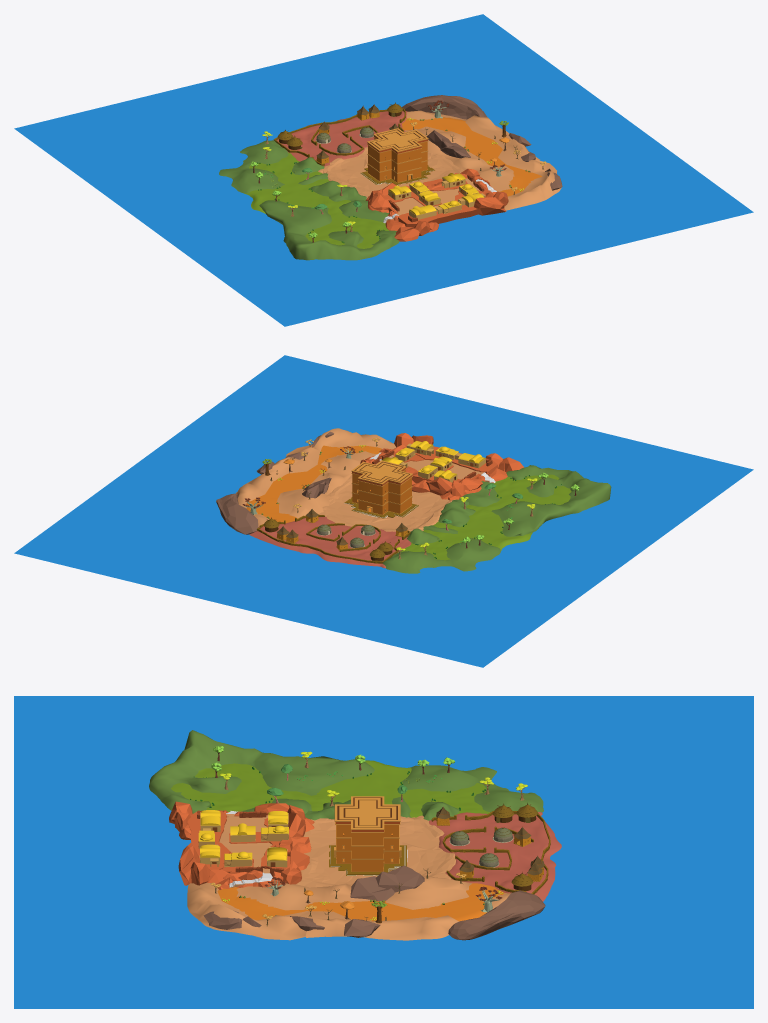
Rendered from Map (2).fbx.
3 renders of one model, top to bottom at view 1: azimuth 30°, elevation 25°; view 2: azimuth 150°, elevation 25°; view 3: azimuth 270°, elevation 25°, orthographic. The views are drawn at different scales.
Visible parts, largest first — view 1: Sea, Ground Grass_01, Desert Ground_02, Ground Grass Floor_02, Lalibela_Building, Mali_Road, Desert Ground_01, Lalibela_Floor, Tunisia Ground_Base, Icosphere.004; view 2: Sea, Ground Grass_01, Desert Ground_02, Ground Grass Floor_02, Mali_Road, Lalibela_Building, Lalibela_Floor, Desert Ground_01, Tunisia Ground_Base, Icosphere.004; view 3: Sea, Ground Grass_01, Desert Ground_02, Ground Grass Floor_02, Mali_Road, Lalibela_Building, Lalibela_Floor, Desert Ground_01, Tunisia Ground_Base, Icosphere.004, Icosphere.002, Icosphere.003 (+1 smaller).
Boxes of the visible parts, left/top/right/bottom form: Sea: left=14, top=14, right=753, bottom=326; Ground Grass_01: left=219, top=140, right=399, bottom=260; Desert Ground_02: left=405, top=110, right=561, bottom=210; Ground Grass Floor_02: left=244, top=152, right=389, bottom=248; Lalibela_Building: left=363, top=128, right=432, bottom=184; Mali_Road: left=277, top=111, right=407, bottom=166; Desert Ground_01: left=402, top=117, right=541, bottom=196; Lalibela_Floor: left=318, top=147, right=464, bottom=198; Tunisia Ground_Base: left=385, top=178, right=487, bottom=227; Icosphere.004: left=401, top=95, right=486, bottom=119; Sea: left=14, top=355, right=753, bottom=667; Ground Grass_01: left=382, top=465, right=611, bottom=573; Desert Ground_02: left=236, top=428, right=396, bottom=526; Ground Grass Floor_02: left=398, top=474, right=571, bottom=560; Mali_Road: left=249, top=516, right=411, bottom=568; Lalibela_Building: left=347, top=460, right=416, bottom=517; Lalibela_Floor: left=319, top=475, right=455, bottom=531; Desert Ground_01: left=246, top=445, right=381, bottom=522; Tunisia Ground_Base: left=375, top=445, right=497, bottom=483; Icosphere.004: left=216, top=493, right=258, bottom=534; Sea: left=14, top=696, right=753, bottom=1008; Ground Grass_01: left=149, top=730, right=543, bottom=820; Desert Ground_02: left=187, top=875, right=510, bottom=940; Ground Grass Floor_02: left=171, top=760, right=489, bottom=817; Mali_Road: left=429, top=812, right=561, bottom=901; Lalibela_Building: left=331, top=796, right=404, bottom=873; Lalibela_Floor: left=296, top=815, right=455, bottom=887; Desert Ground_01: left=217, top=883, right=505, bottom=921; Tunisia Ground_Base: left=187, top=811, right=292, bottom=873; Icosphere.004: left=448, top=890, right=545, bottom=940; Icosphere.002: left=375, top=865, right=424, bottom=892; Icosphere.003: left=350, top=876, right=394, bottom=901.
Bounding box in the file's own units: 28973 × 2529 × 28973.
